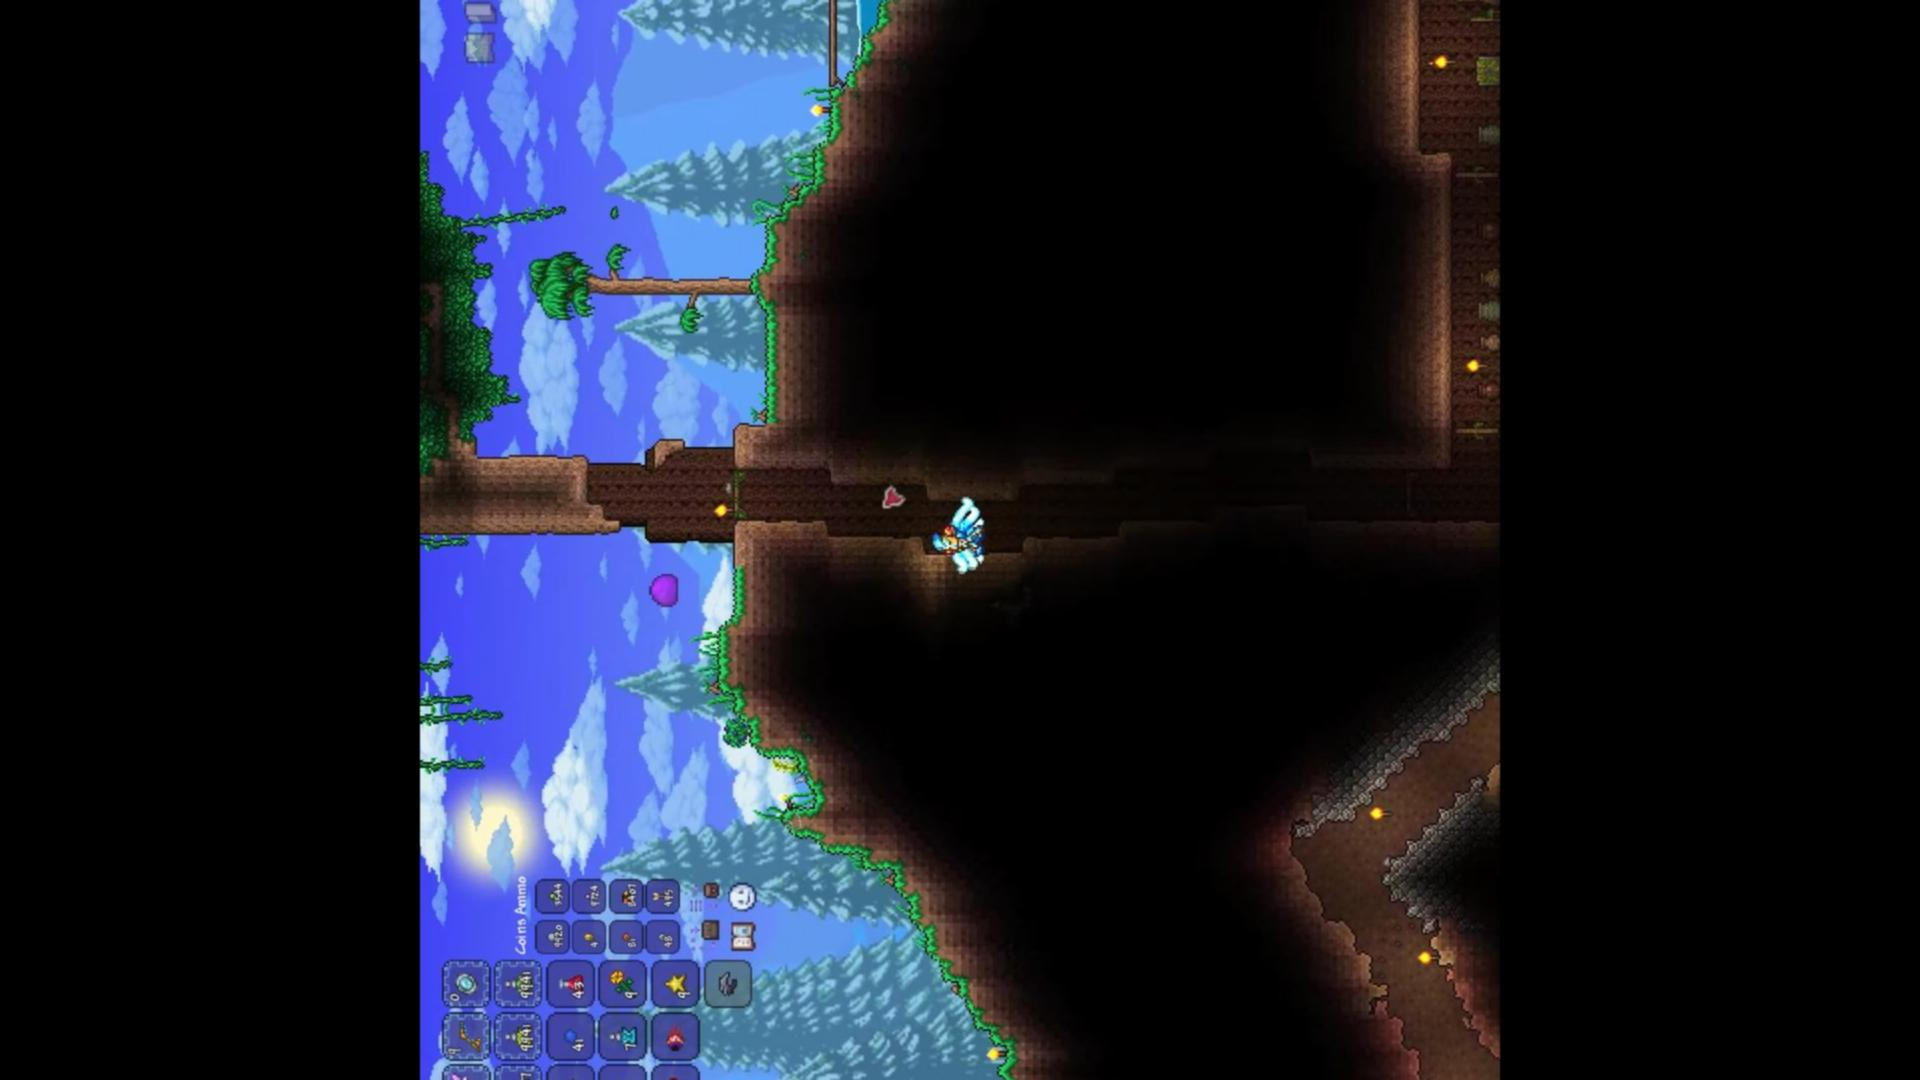slime: (644, 567, 679, 611)
